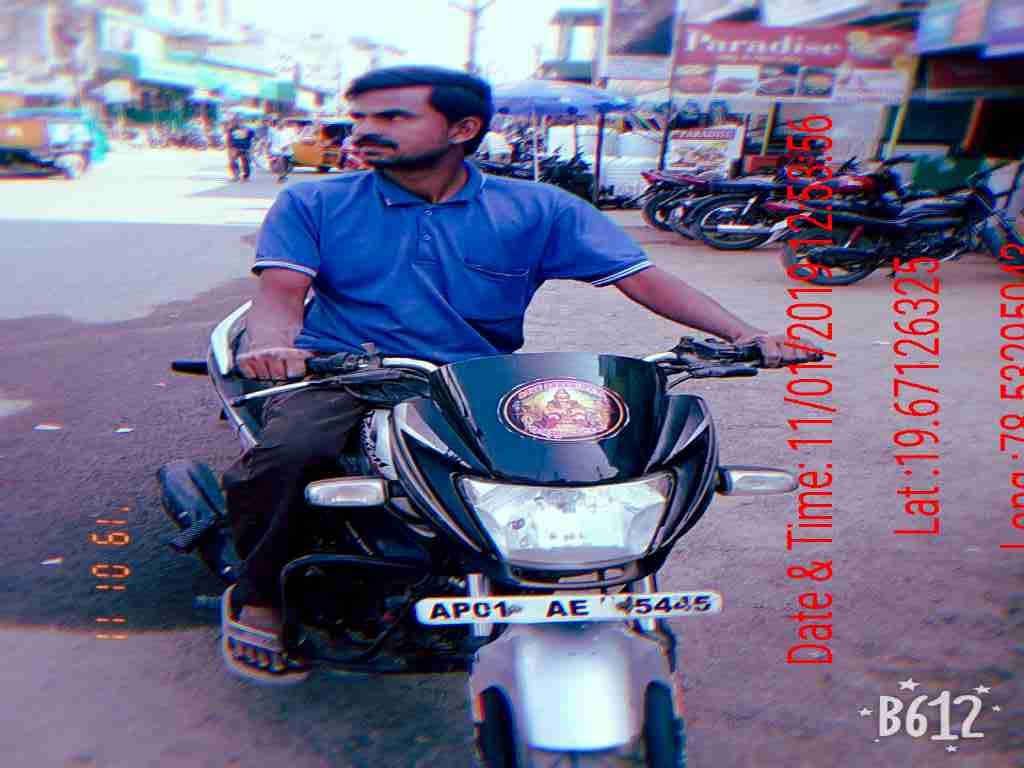plate: (413, 582, 731, 634)
